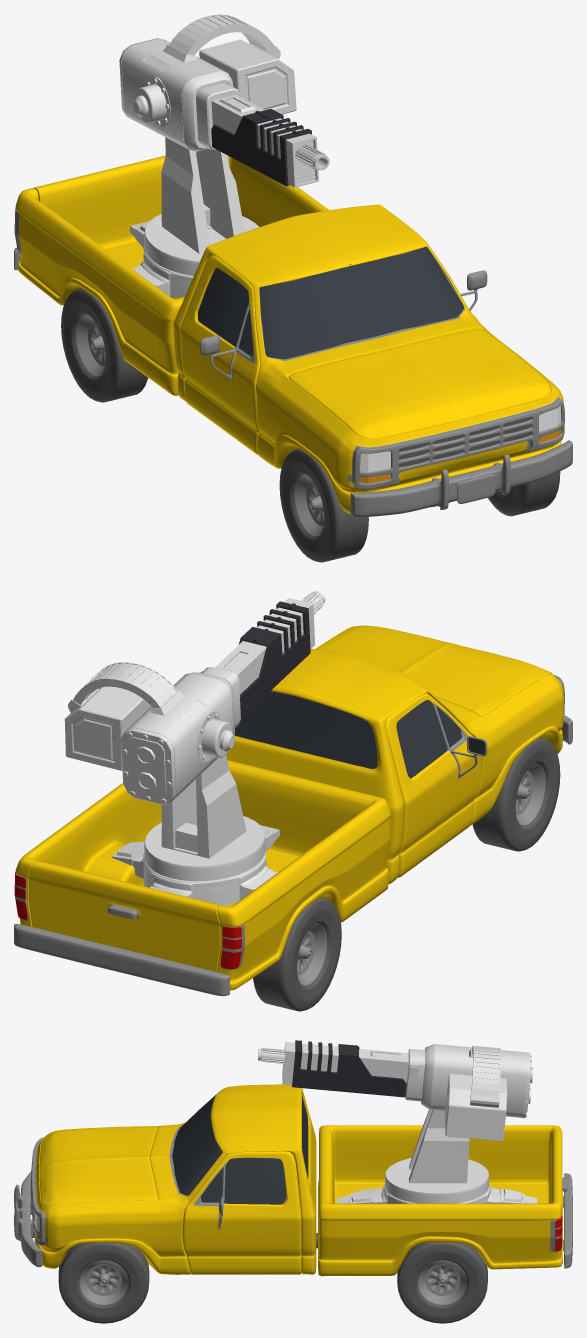
The model's file is Pick-Up .gltf.
3 views of the same model, one above another, from view 1: azimuth 30°, elevation 25°; view 2: azimuth 150°, elevation 25°; view 3: azimuth 270°, elevation 25° (orthographic). The views are drawn at different scales.
Parts seen in each view (by area): view 1: Cube, Cubo, Plane, Gun, Base, Círculo.004, Círculo.007, BarrelGuard, Círculo.001, Círculo.006, Círculo.005, Motor (+2 smaller); view 2: Cubo, Cube, Gun, Base, Plane, Círculo.007, Círculo.004, BarrelGuard, Círculo.005, Círculo.006, Motor; view 3: Cube, Cubo, Gun, Base, Plane, Círculo.001, Círculo.002, BarrelGuard, Círculo, Círculo.003.
Part boxes in pixels (x1,y1,x2,y2): Cube: [173, 204, 572, 517]; Cubo: [14, 151, 328, 395]; Plane: [198, 246, 463, 359]; Gun: [119, 14, 329, 187]; Base: [130, 137, 259, 298]; Círculo.004: [279, 448, 368, 562]; Círculo.007: [61, 288, 147, 402]; BarrelGuard: [211, 109, 311, 186]; Círculo.001: [488, 471, 560, 516]; Círculo.006: [75, 314, 105, 376]; Círculo.005: [294, 474, 324, 536]; Motor: [133, 77, 170, 127]; Cubo: [14, 760, 390, 996]; Cube: [201, 625, 572, 883]; Gun: [64, 591, 325, 804]; Base: [111, 754, 279, 905]; Plane: [235, 691, 484, 778]; Círculo.007: [253, 897, 341, 1011]; Círculo.004: [472, 737, 560, 851]; BarrelGuard: [239, 601, 310, 718]; Círculo.005: [515, 763, 545, 825]; Círculo.006: [297, 923, 327, 985]; Motor: [197, 711, 234, 761]; Cube: [14, 1084, 316, 1274]; Cubo: [318, 1125, 572, 1276]; Gun: [258, 1042, 533, 1141]; Base: [337, 1109, 537, 1203]; Plane: [172, 1095, 308, 1204]; Círculo.001: [58, 1242, 149, 1323]; Círculo.002: [397, 1242, 487, 1323]; BarrelGuard: [292, 1040, 406, 1097]; Círculo: [79, 1260, 128, 1305]; Círculo.003: [418, 1260, 467, 1305].
Bounding box in the file's own units: 3.05 × 3.26 × 6.65.
